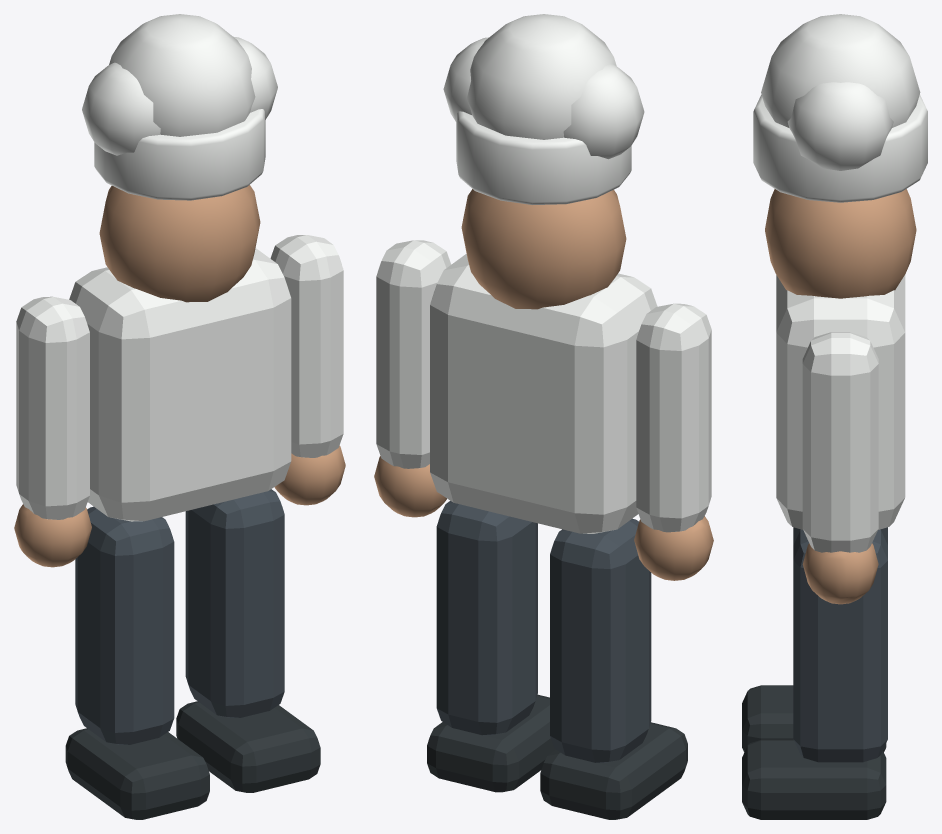
File: Chef.fbx
3 renders of one model, left to right at view 1: azimuth 30°, elevation 25°; view 2: azimuth 150°, elevation 25°; view 3: azimuth 270°, elevation 25°, orthographic. The views are drawn at different scales.
Visible parts, largest first — view 1: Torso, Leg_L, Leg_R, Arm_L, Head, HatPuff_0, Arm_R, HatBand, Shoe_L, Shoe_R, HatPuff_1, Hand_L (+2 smaller); view 2: Torso, Leg_L, Leg_R, Arm_L, Head, HatPuff_0, Arm_R, HatBand, Shoe_L, Shoe_R, HatPuff_1, Hand_L (+2 smaller); view 3: Leg_R, Arm_R, Torso, Head, HatPuff_0, Shoe_R, HatBand, HatPuff_2, Hand_R, Shoe_L.
Part boxes in pixels (<box>): Torso: <box>69,248,291,521</box>; Leg_L: <box>75,506,174,744</box>; Leg_R: <box>185,489,284,717</box>; Arm_L: <box>16,296,89,519</box>; Head: <box>99,185,260,302</box>; HatPuff_0: <box>109,14,255,136</box>; Arm_R: <box>270,235,343,457</box>; HatBand: <box>94,109,265,200</box>; Shoe_L: <box>65,728,209,819</box>; Shoe_R: <box>176,701,320,792</box>; HatPuff_1: <box>82,62,160,155</box>; Hand_L: <box>14,504,91,567</box>; Torso: <box>430,254,657,533</box>; Leg_L: <box>550,518,651,762</box>; Leg_R: <box>436,501,537,735</box>; Arm_L: <box>636,303,711,532</box>; Head: <box>461,189,626,309</box>; HatPuff_0: <box>467,14,616,139</box>; Arm_R: <box>376,240,451,468</box>; HatBand: <box>456,111,631,204</box>; Shoe_L: <box>540,722,687,819</box>; Shoe_R: <box>427,694,555,792</box>; HatPuff_1: <box>563,64,644,159</box>; Hand_L: <box>634,516,713,580</box>; Leg_R: <box>793,529,887,762</box>; Arm_R: <box>802,332,878,552</box>; Torso: <box>776,275,905,529</box>; Head: <box>765,189,916,298</box>; HatPuff_0: <box>761,14,920,127</box>; Shoe_R: <box>742,740,886,819</box>; HatBand: <box>753,94,927,202</box>; HatPuff_2: <box>787,82,893,170</box>; Hand_R: <box>802,543,878,604</box>; Shoe_L: <box>742,685,886,752</box>.
Size of the model in its own units: 0.9852 by 2.2 by 0.49.
